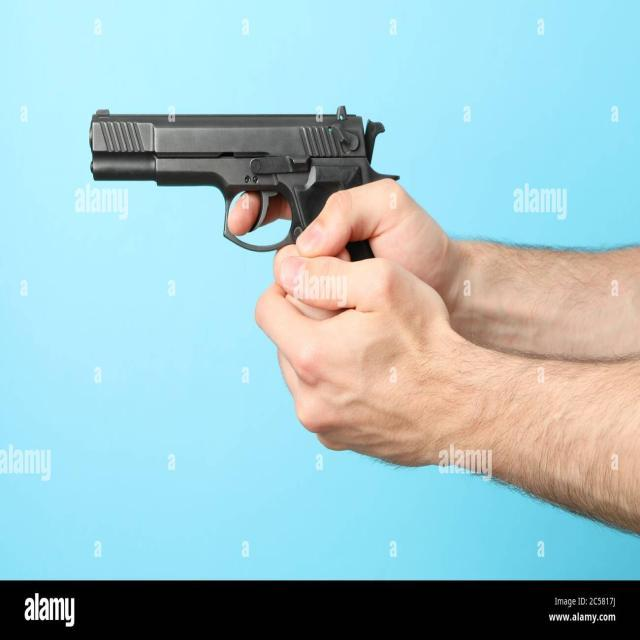Handgun: (83, 66, 603, 540)
